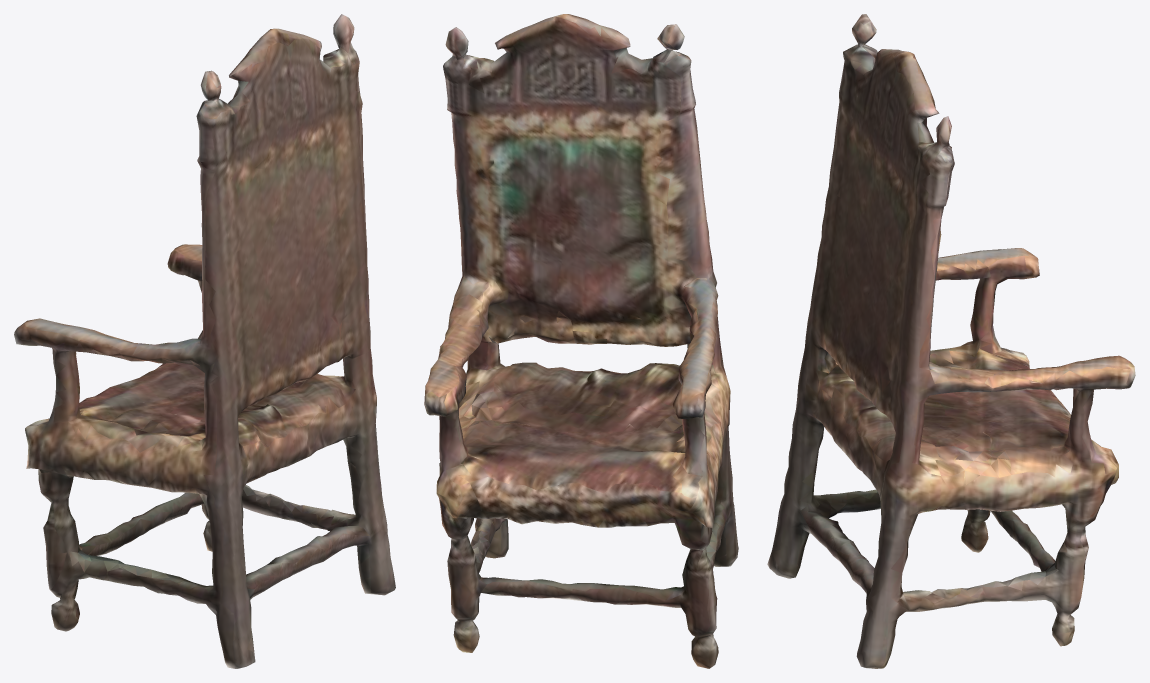
File: council_throne.glb
The picture shows the model from 3 angles, left to right: view 1: azimuth 30°, elevation 25°; view 2: azimuth 150°, elevation 25°; view 3: azimuth 270°, elevation 25°; orthographic projection.
Parts seen in each view (by area): view 1: geometry_0; view 2: geometry_0; view 3: geometry_0.
Part boxes in pixels (x1,y1,x2,y2): geometry_0: [14, 14, 395, 668]; geometry_0: [424, 14, 738, 668]; geometry_0: [767, 14, 1135, 668].
Bounding box in the file's own units: 0.8615 × 1.6 × 0.9164.
Materials: 1 (1 with a texture image).
